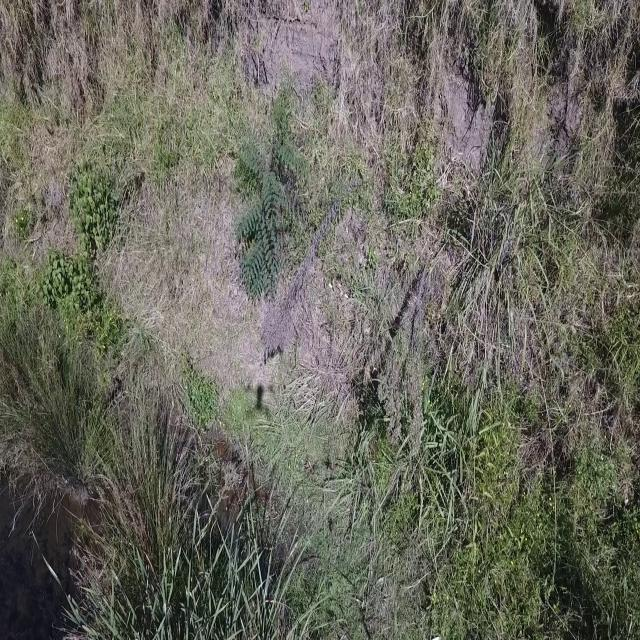Mysore-Thorn-Weed: (229, 88, 307, 302)
